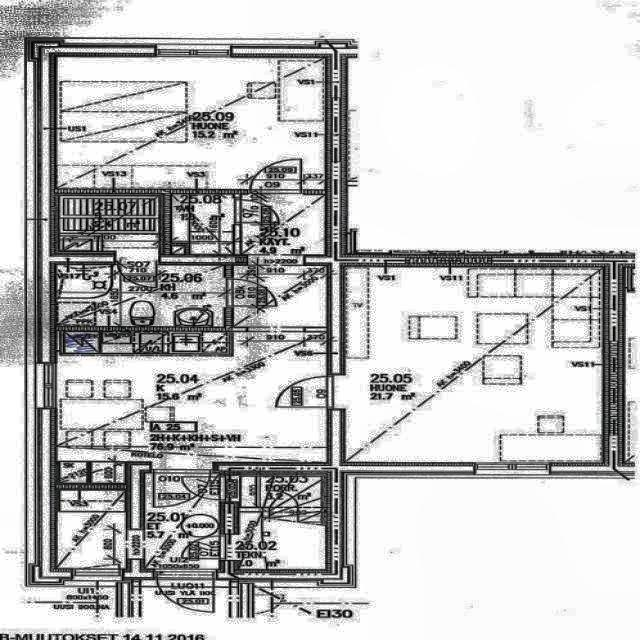room: (346, 268, 602, 462), (57, 332, 329, 464), (56, 57, 325, 190), (56, 265, 224, 328), (238, 476, 326, 570), (144, 474, 221, 570), (233, 266, 327, 327), (57, 489, 128, 569), (241, 194, 326, 255)
